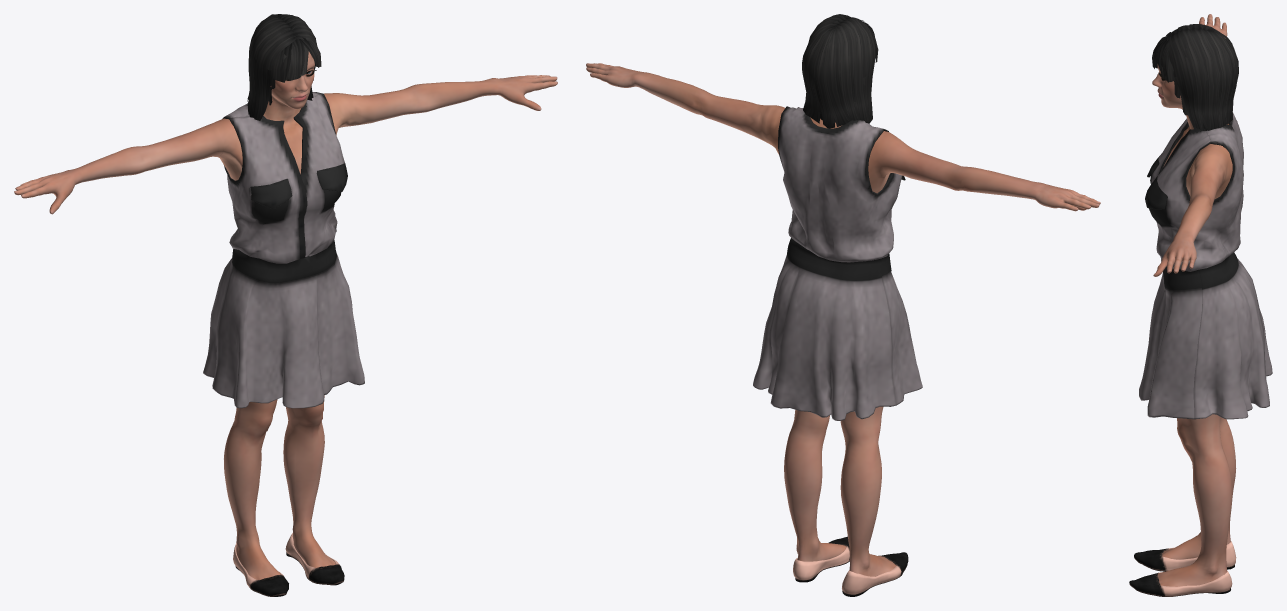
3 renders of one model, left to right at view 1: azimuth 30°, elevation 25°; view 2: azimuth 150°, elevation 25°; view 3: azimuth 270°, elevation 25°, orthographic.
Parts seen in each view (by area): view 1: Tops, Body, Hair, Shoes; view 2: Tops, Body, Hair, Shoes; view 3: Tops, Body, Hair, Shoes.
Part boxes in pixels (<box>): Tops: <box>203,92,364,408</box>; Body: <box>14,51,557,580</box>; Hair: <box>247,14,321,120</box>; Shoes: <box>233,533,344,596</box>; Tops: <box>753,106,922,420</box>; Body: <box>586,63,1100,576</box>; Hair: <box>802,14,878,128</box>; Shoes: <box>793,536,908,596</box>; Tops: <box>1139,112,1272,419</box>; Body: <box>1152,14,1236,586</box>; Hair: <box>1152,24,1238,130</box>; Shoes: <box>1129,541,1236,596</box>.
Size of the model in its own units: 168 by 168 by 39.62.
Materials: 1 (1 with a texture image).
